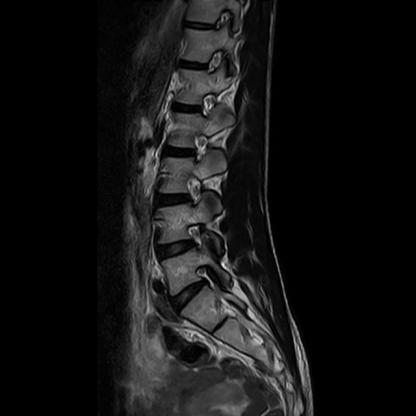Degenerative Disc Diseaserotation: (165, 284, 214, 310)
Disc Bulgerotation: (166, 283, 215, 310)
